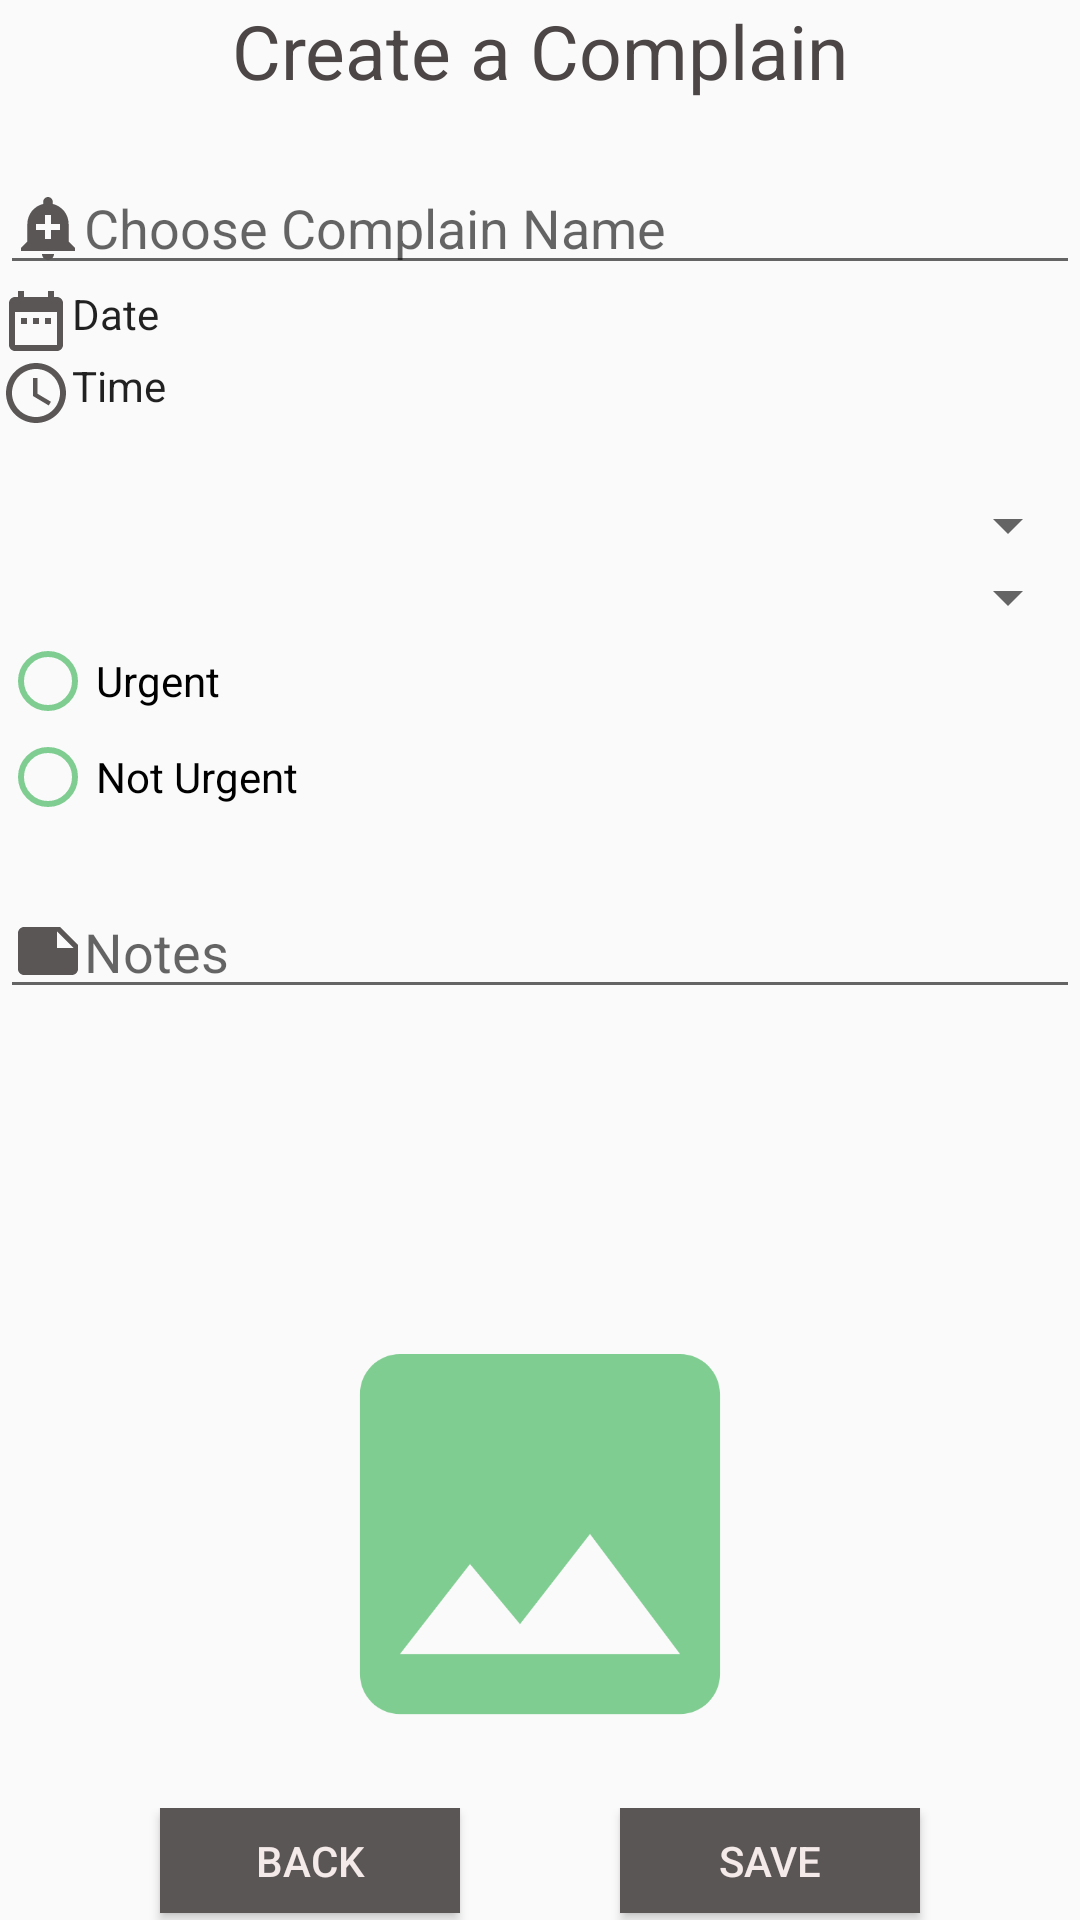

Icon click points for this 1080 x 1920 phone screenshot, format (x=x, y=y):
insert photo: (x=540, y=1534)
